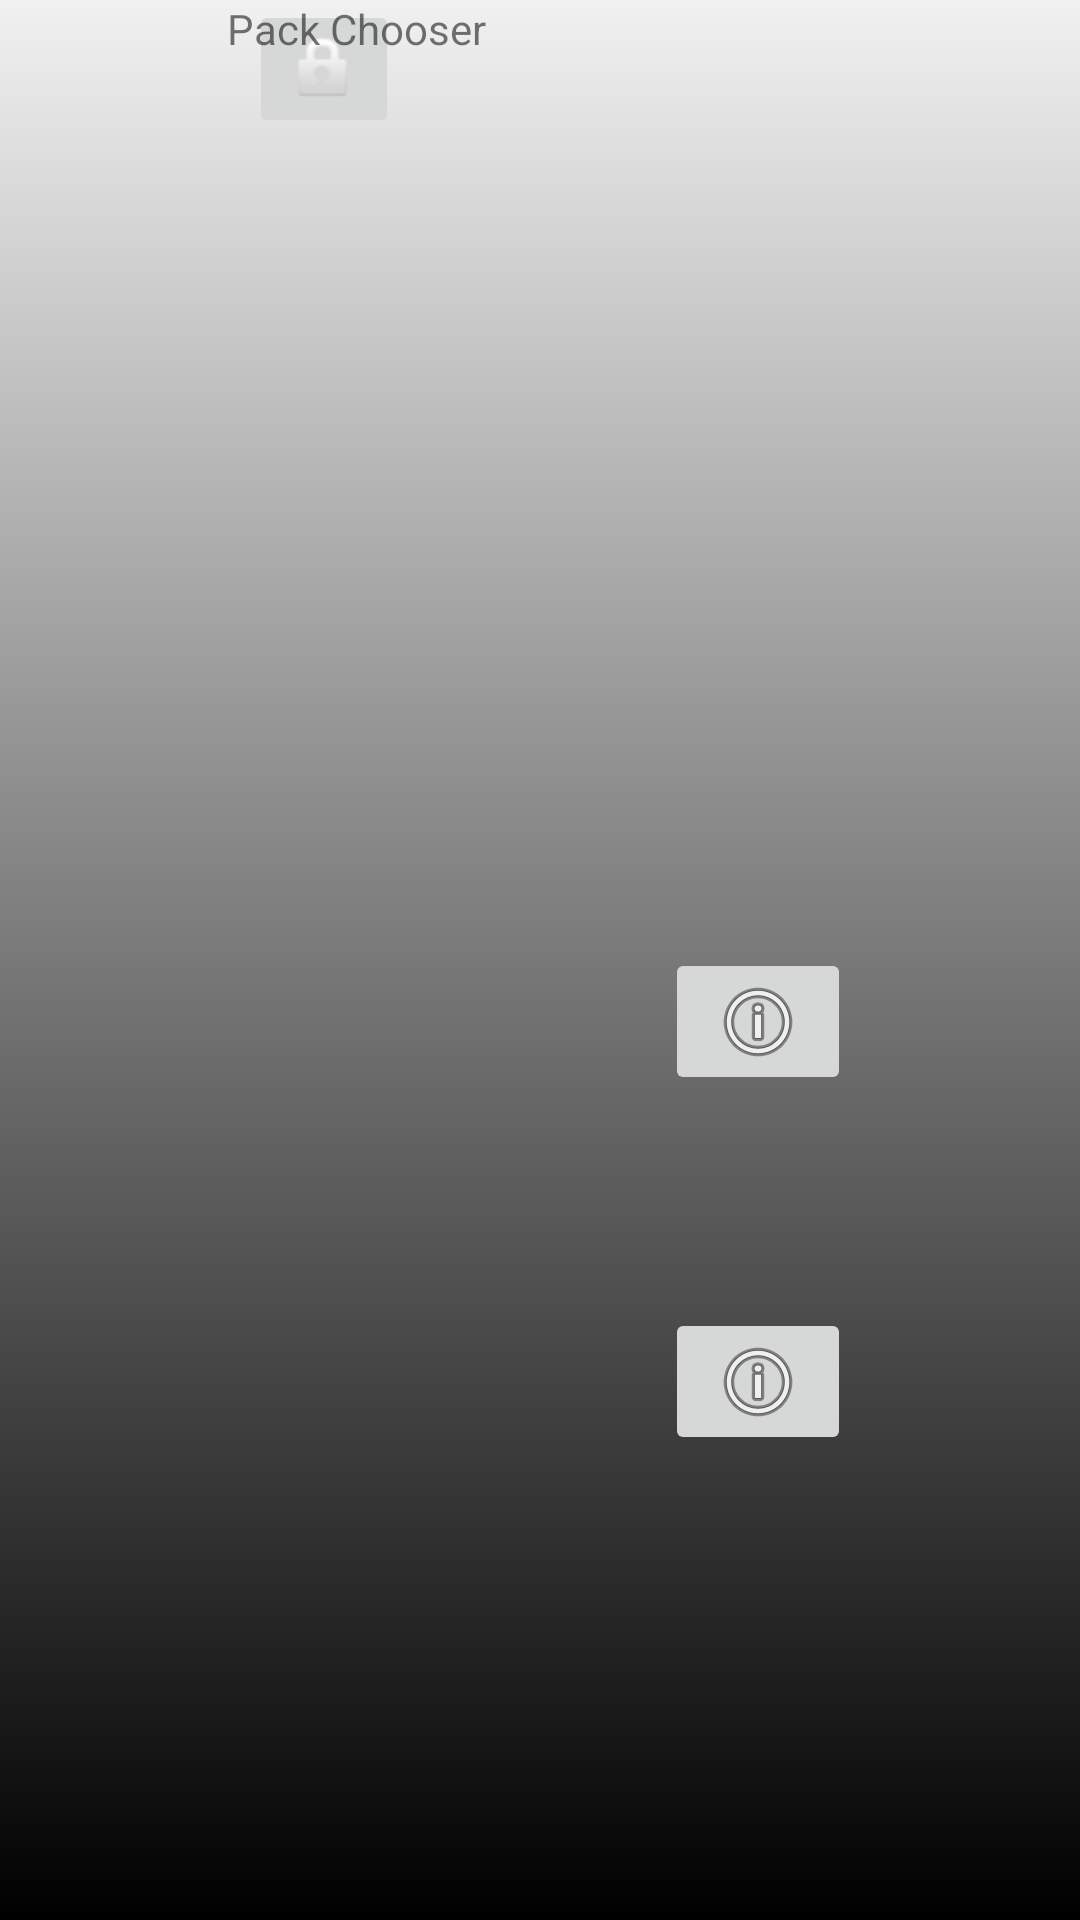

Named icons in this screenshot (1080px x 1920px) and their centers, (x,y):
info details: (758,1021), (758,1381)
